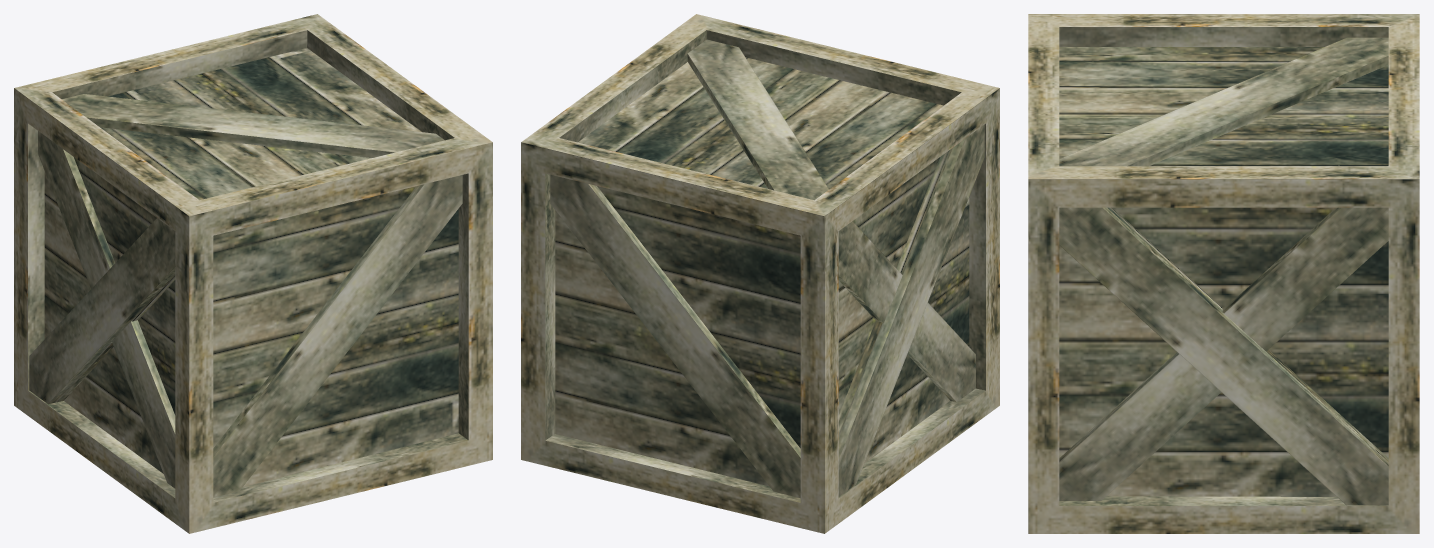
The model's file is Crate.fbx.
The picture shows the model from 3 angles, left to right: view 1: azimuth 30°, elevation 25°; view 2: azimuth 150°, elevation 25°; view 3: azimuth 270°, elevation 25°; orthographic projection. The views are drawn at different scales.
Visible parts, largest first — view 1: wnetrze, obudowa, Cube, Cube.001, Cube.004, Cube.002, Cube.003; view 2: wnetrze, obudowa, Cube, Cube.004, Cube.001, Cube.002, Cube.003; view 3: wnetrze, obudowa, Cube.004, Cube.002, Cube.001, Cube.003.
Boxes of the visible parts, bbox=[...] form: wnetrze: bbox=[44, 48, 458, 486]; obudowa: bbox=[14, 14, 492, 533]; Cube: bbox=[213, 175, 462, 497]; Cube.001: bbox=[62, 94, 444, 157]; Cube.004: bbox=[29, 218, 175, 404]; Cube.002: bbox=[38, 131, 175, 488]; Cube.003: bbox=[57, 274, 175, 402]; wnetrze: bbox=[555, 57, 969, 486]; obudowa: bbox=[521, 14, 999, 533]; Cube: bbox=[550, 174, 800, 498]; Cube.004: bbox=[838, 124, 984, 496]; Cube.001: bbox=[687, 39, 828, 200]; Cube.002: bbox=[838, 221, 975, 402]; Cube.003: bbox=[838, 148, 952, 437]; wnetrze: bbox=[1059, 47, 1388, 496]; obudowa: bbox=[1028, 14, 1419, 533]; Cube.004: bbox=[1059, 207, 1388, 505]; Cube.002: bbox=[1059, 207, 1388, 500]; Cube.001: bbox=[1059, 37, 1388, 166]; Cube.003: bbox=[1107, 207, 1388, 462].
Size of the model in its own units: 189 by 189 by 189.
